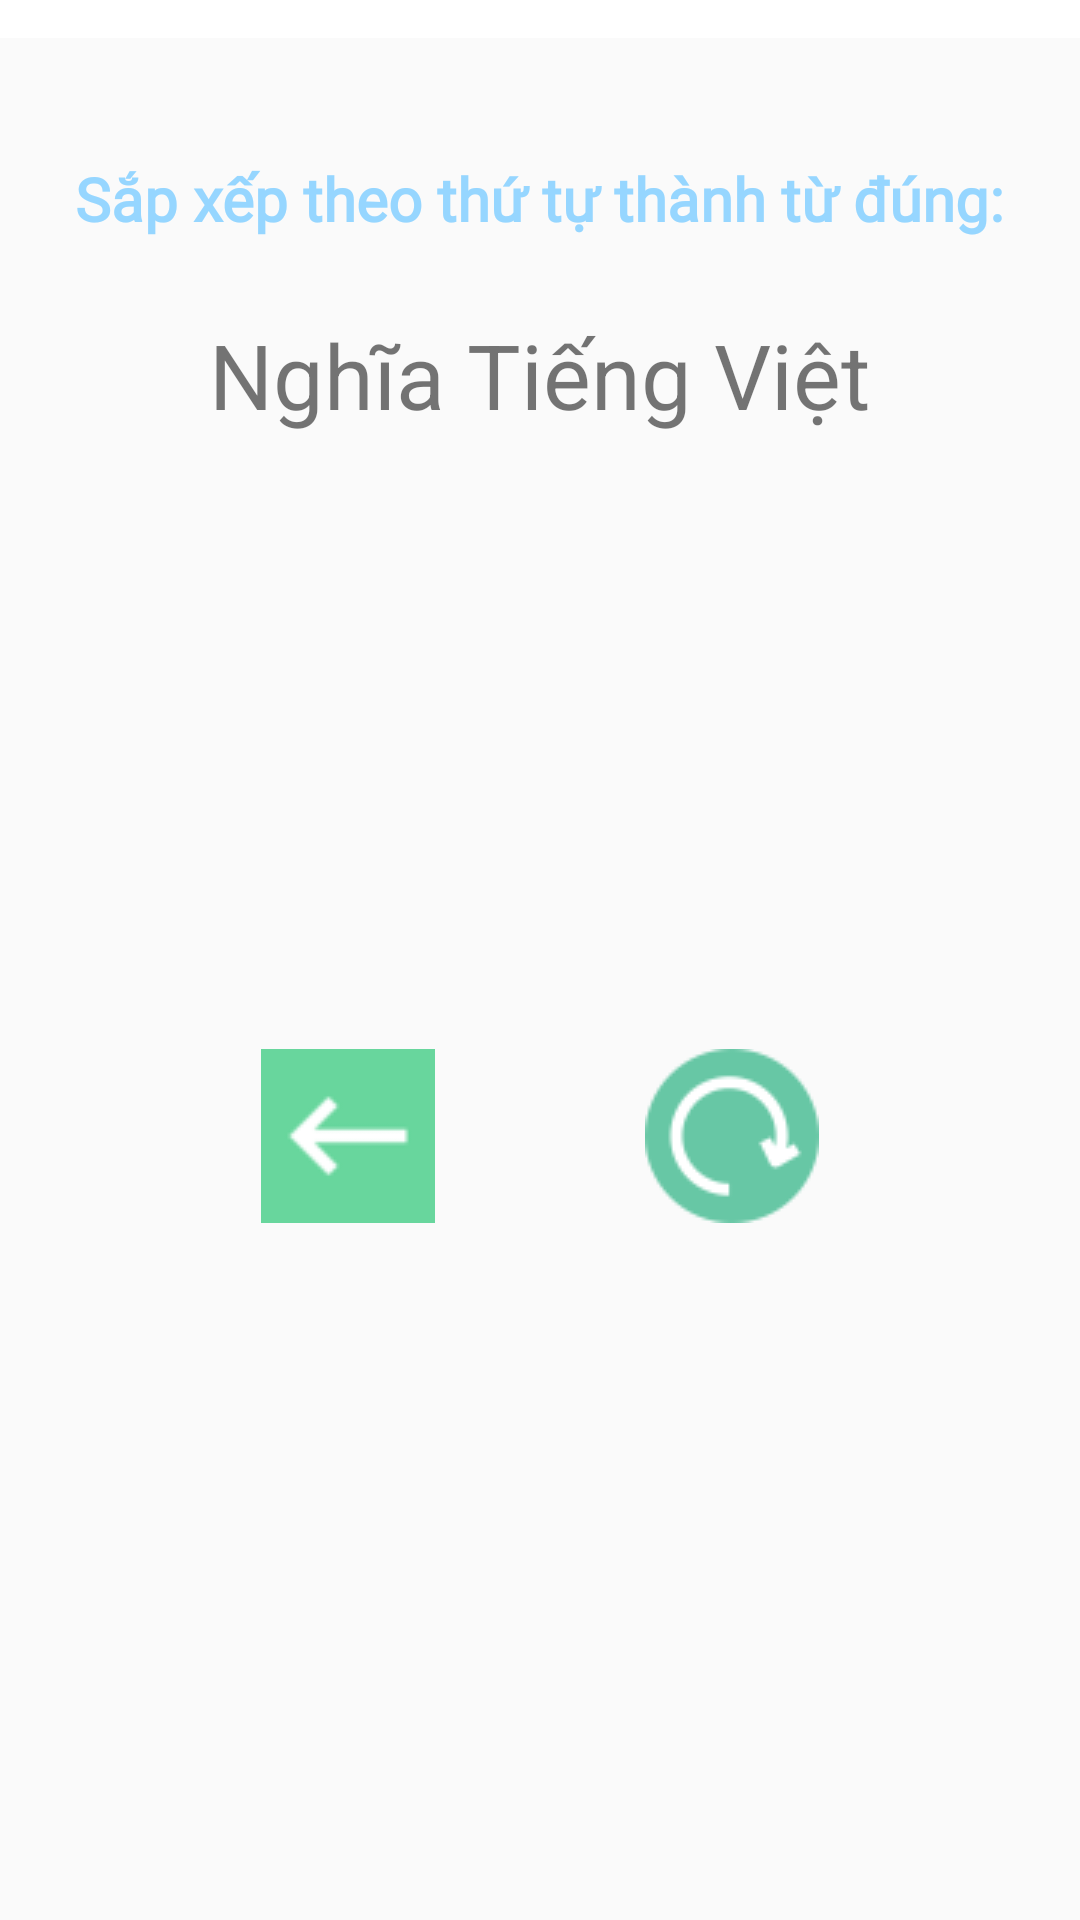

Where icons sit on this 1080px x 1920px app screen, as (x1, y1, x2, y2):
backspace: (261, 1049, 435, 1223)
reset: (645, 1049, 819, 1223)
